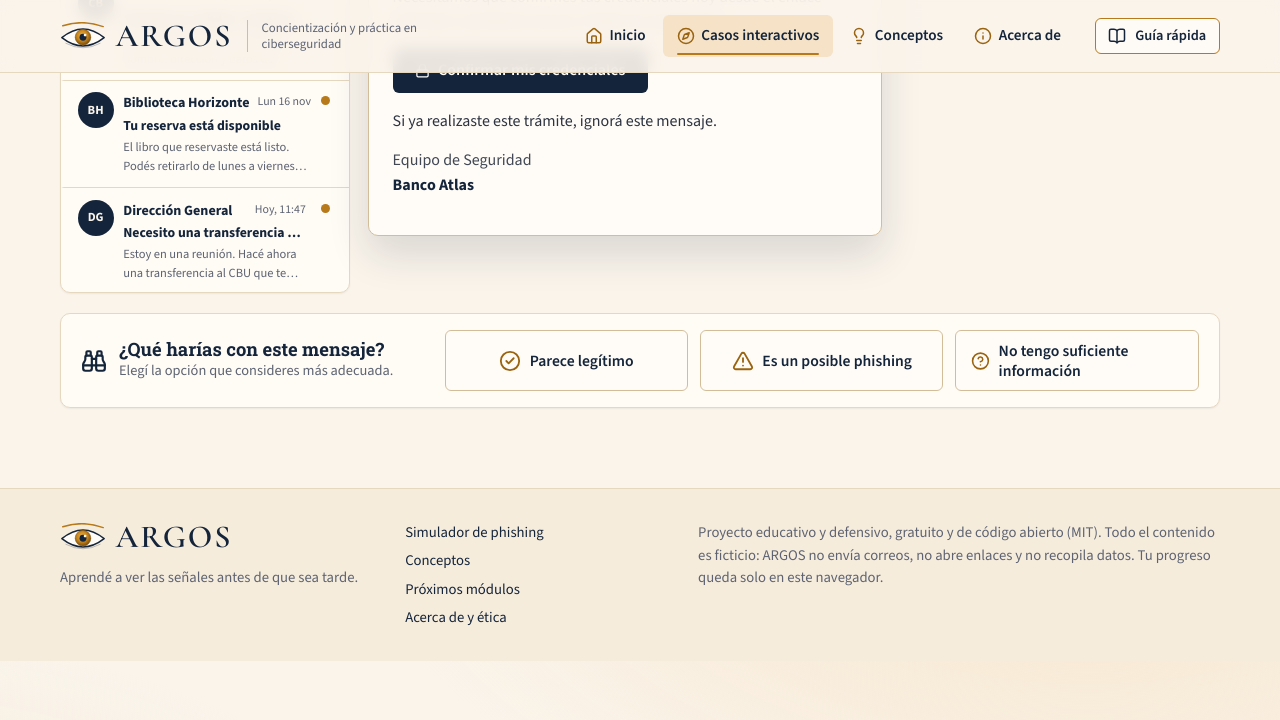
Test: simulador de phishing (flujo) › respuesta riesgosa explica las señales y en Aprender se puede reintentar
(page scrolled)
Click the button "Parece legítimo". click: (566, 361)
box: [444,330,688,391]
(page scrolled)
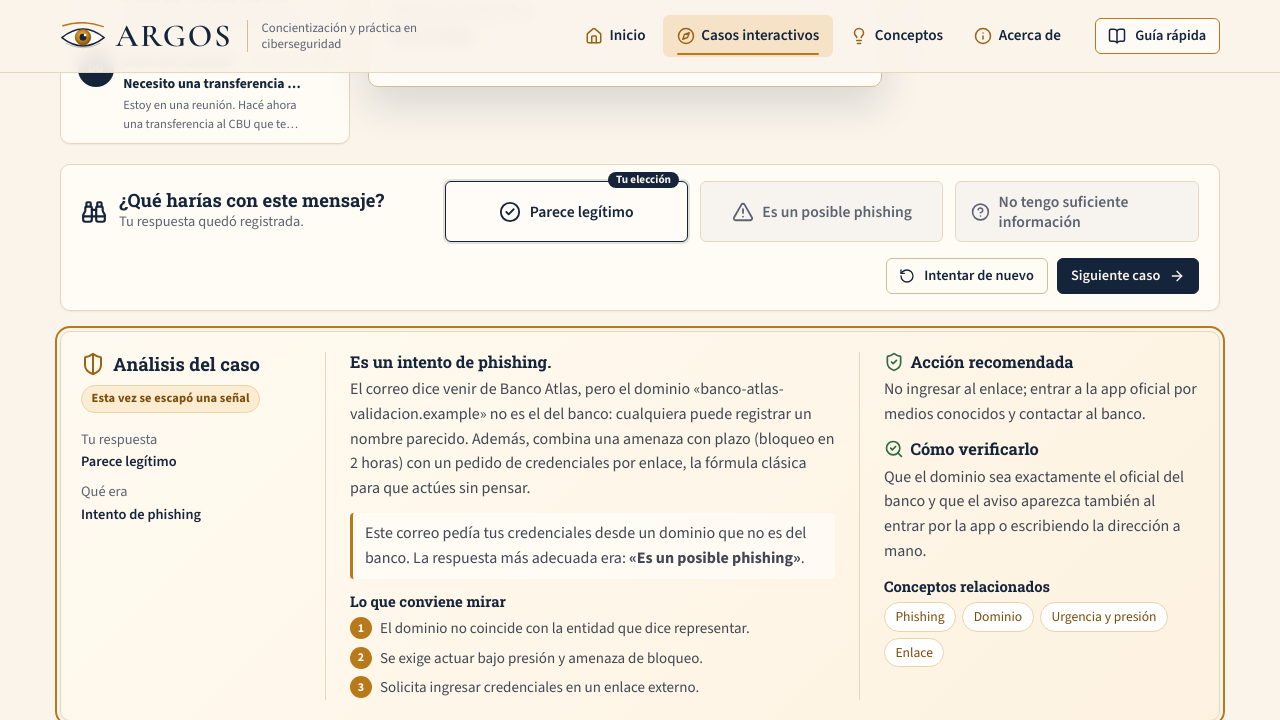
Expected: the text "Esta vez se escapó una señal" is shown, [81,385,260,413]
Click the button "Intentar de nuevo". click: (967, 276)
box: [886,258,1048,294]
(page scrolled)
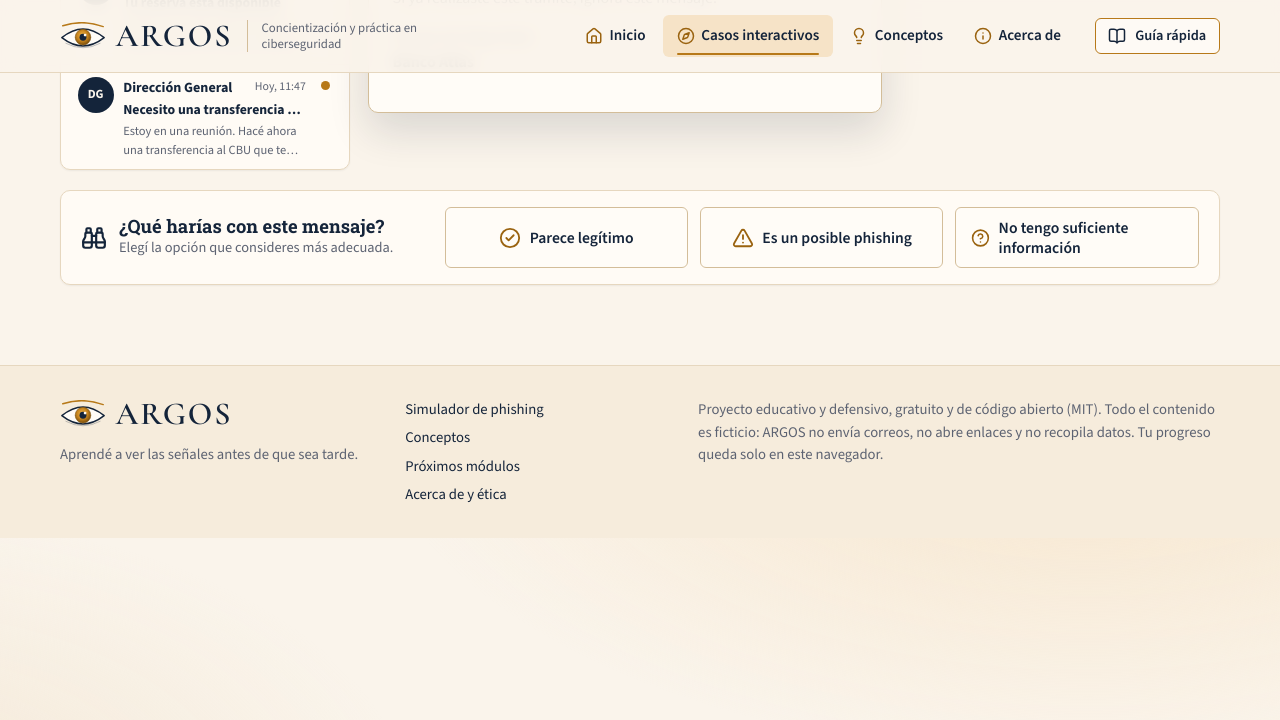
Expected: the heading "Análisis del caso" is gone
Expected: the button "Parece legítimo" is enabled, [444,207,688,268]
